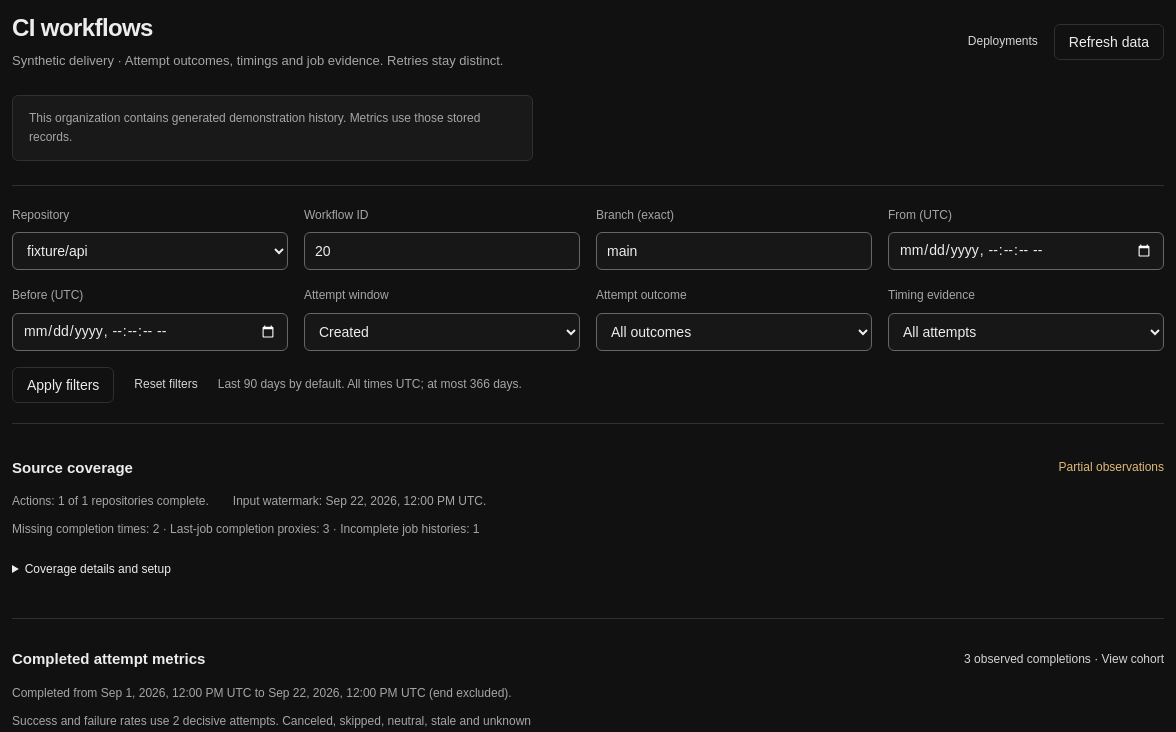
Test case: delivery evidence › shows retries separately, null queue distributions and timing provenance coverage
This screenshot has width=1176, height=732.
Expected: the text "Incomplete job histories: 1" is shown, [12,522,480,536]
Click the heading "Coverage details and setup" at (98, 569), box [25,562,171,576]
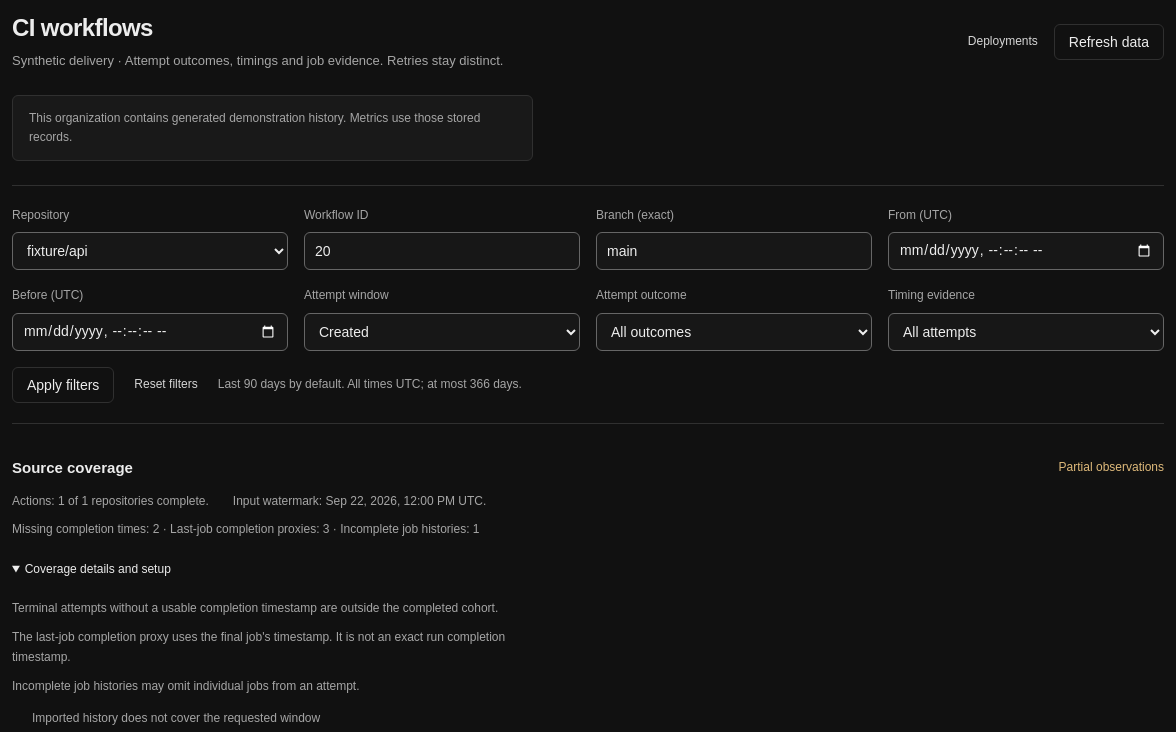
Expected: the text "Terminal attempts without a usable completion timestamp" is shown, [12,601,498,615]
Expected: the text "It is not an exact run completion timestamp" is shown, [12,630,505,664]
